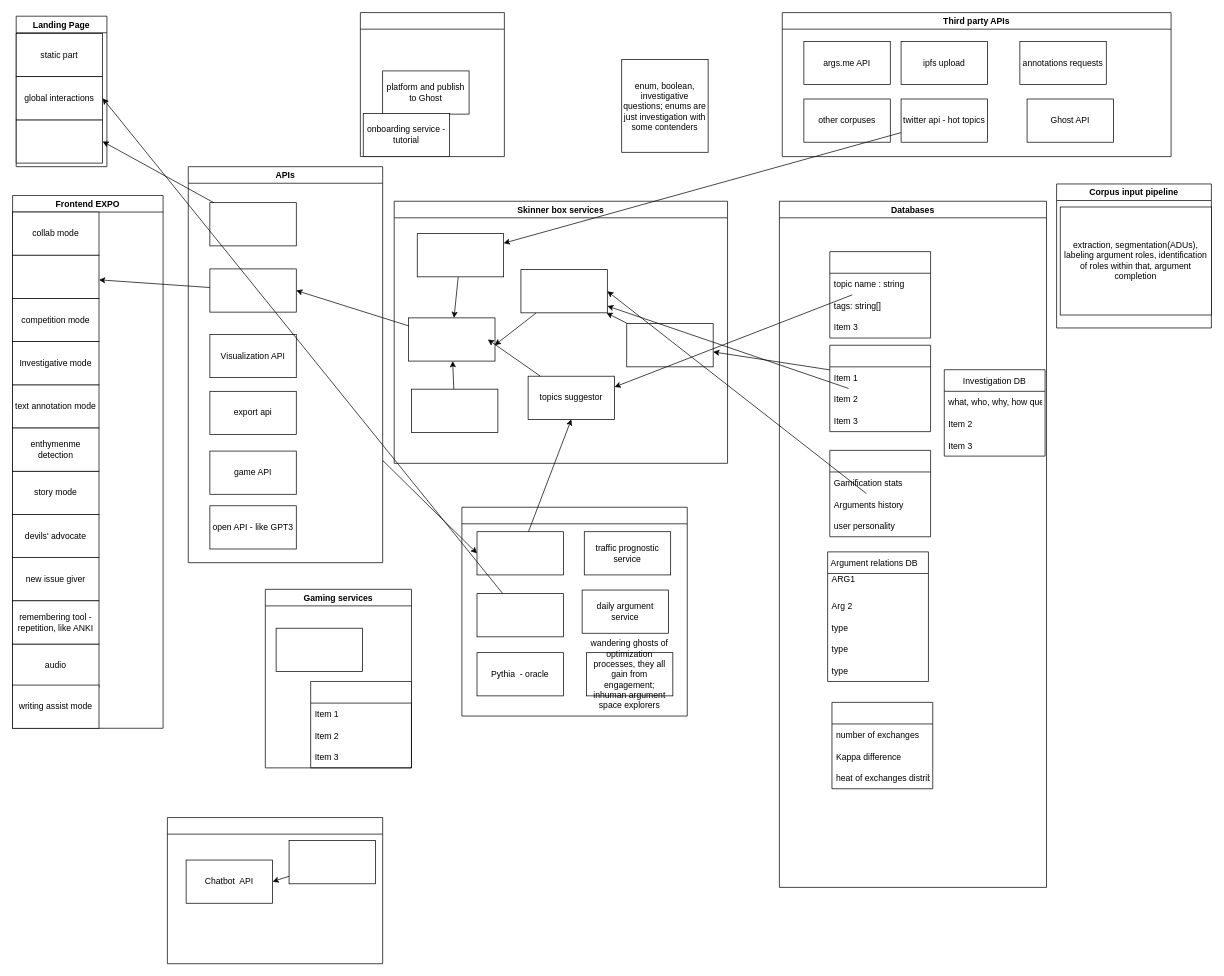
Some shapes in this 1224 by 976 pixel diagram are drawn without their labels. The box of each missing label's shape, as (x1, y1, x2, y2) in pixels:
argument rank - using pagerank: (626, 323, 713, 367)
argument suggestion service: (520, 269, 607, 313)
Arguments DB: (829, 345, 931, 432)
Chatbot service: (288, 840, 375, 884)
discovery service: (417, 233, 504, 277)
engagement tracker: (411, 388, 498, 432)
Exile: (167, 817, 383, 964)
Games history DB: (310, 681, 411, 768)
global progress bar: (476, 593, 563, 637)
Global services: (461, 507, 687, 716)
home API: (209, 268, 296, 312)
individual timeline mixer - online learning: (408, 317, 495, 361)
Special services: (360, 12, 504, 157)
timeline: (12, 255, 99, 298)
topics API: (209, 202, 296, 246)
Topics DB: (829, 251, 931, 338)
traffic monitor: (476, 531, 563, 575)
trending topics: (15, 119, 103, 163)
User matcher: (275, 627, 363, 671)
User relations DB: (831, 702, 933, 789)
Users DB: (829, 450, 931, 537)
